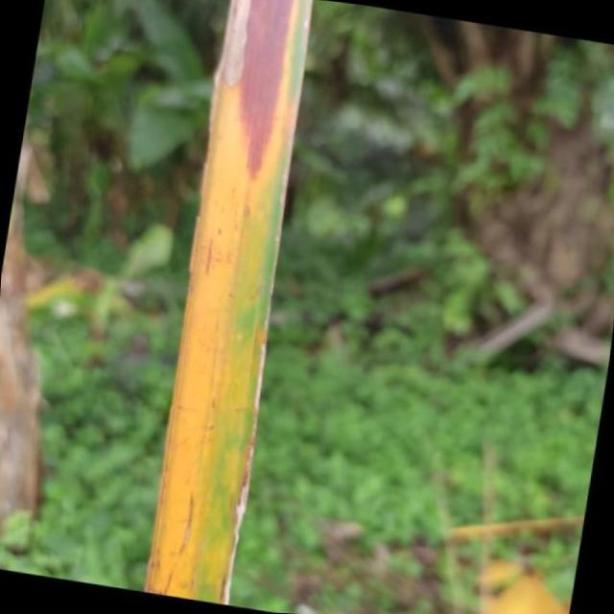Megnesium: (142, 0, 313, 610)
